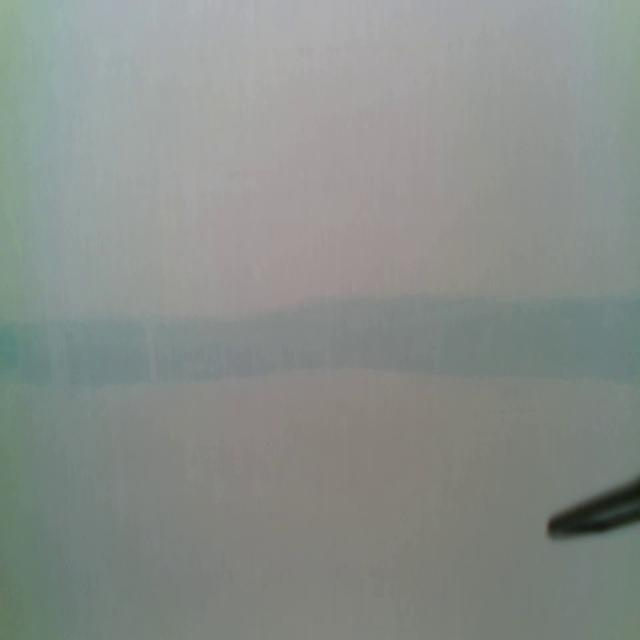color bleeding: (0, 289, 640, 396)
